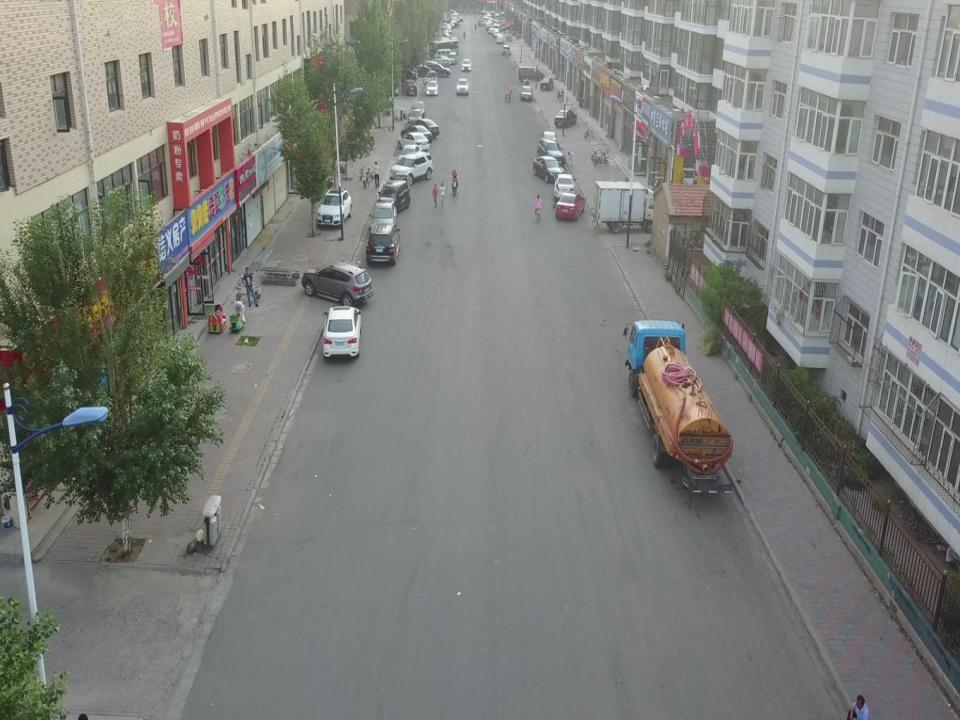bus: (429, 42, 458, 58)
car: (300, 262, 372, 310), (323, 304, 362, 362), (366, 225, 402, 265), (392, 152, 432, 182), (320, 189, 352, 226), (378, 179, 410, 215), (370, 202, 397, 239), (532, 156, 564, 185), (537, 138, 566, 168), (556, 192, 585, 221), (408, 119, 440, 143), (400, 124, 432, 146), (553, 174, 578, 201), (396, 133, 428, 154), (396, 144, 420, 170), (393, 68, 417, 86), (554, 111, 578, 128), (424, 63, 450, 76), (542, 132, 558, 152), (407, 109, 422, 128), (521, 84, 533, 105), (410, 100, 425, 116), (402, 80, 416, 97), (431, 55, 450, 67), (456, 77, 468, 95), (539, 77, 554, 91), (426, 80, 438, 95), (462, 58, 472, 72), (502, 45, 510, 56), (497, 34, 503, 43)
truck: (623, 321, 731, 492), (594, 179, 657, 236)
van: (518, 66, 546, 81), (433, 48, 449, 58), (447, 52, 457, 65)
